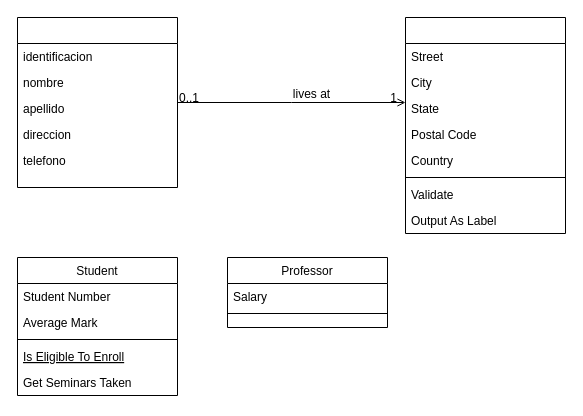
Some shapes in this 583 by 416 pixel diagram are drawn without their labels. Each missing label, with the box of its shape:
Address: (404, 16, 566, 234)
Cliente: (16, 16, 178, 188)
